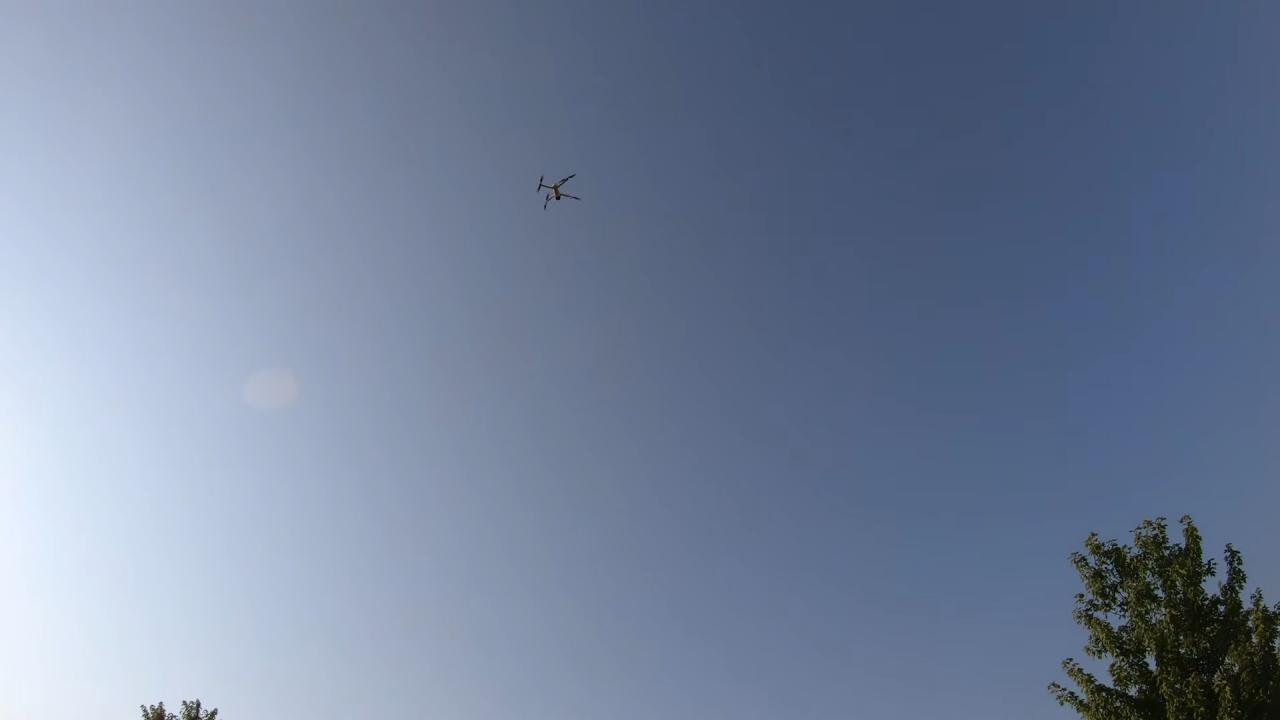Drone: (526, 163, 588, 220)
